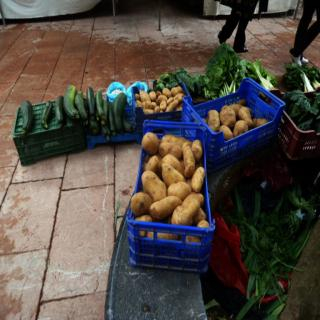Potato: (130, 132, 206, 243), (200, 98, 272, 141), (130, 88, 188, 117)
